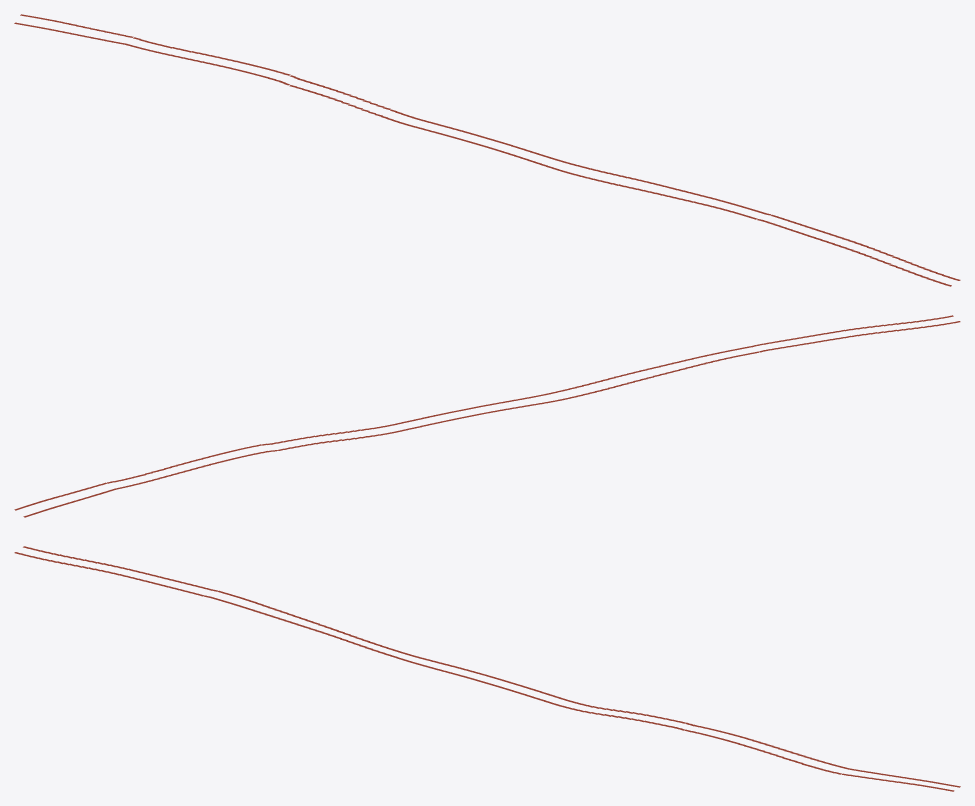
Rendered from cycle2.glb.
3 views of the same model, one above another, from view 1: azimuth 90°, elevation 25°; view 2: azimuth 150°, elevation 25°; view 3: azimuth 270°, elevation 25° (orthographic). The views are drawn at different scales.
Parts seen in each view (by area): view 1: cycle2_lod0; view 2: cycle2_lod0; view 3: cycle2_lod0.
Part boxes in pixels (box(x1,y1,x2,y2)): cycle2_lod0: box(14, 14, 960, 286); cycle2_lod0: box(14, 315, 960, 517); cycle2_lod0: box(14, 546, 960, 791).
Size of what is drawn, in the model's own units: 235 by 6.09 by 364.
